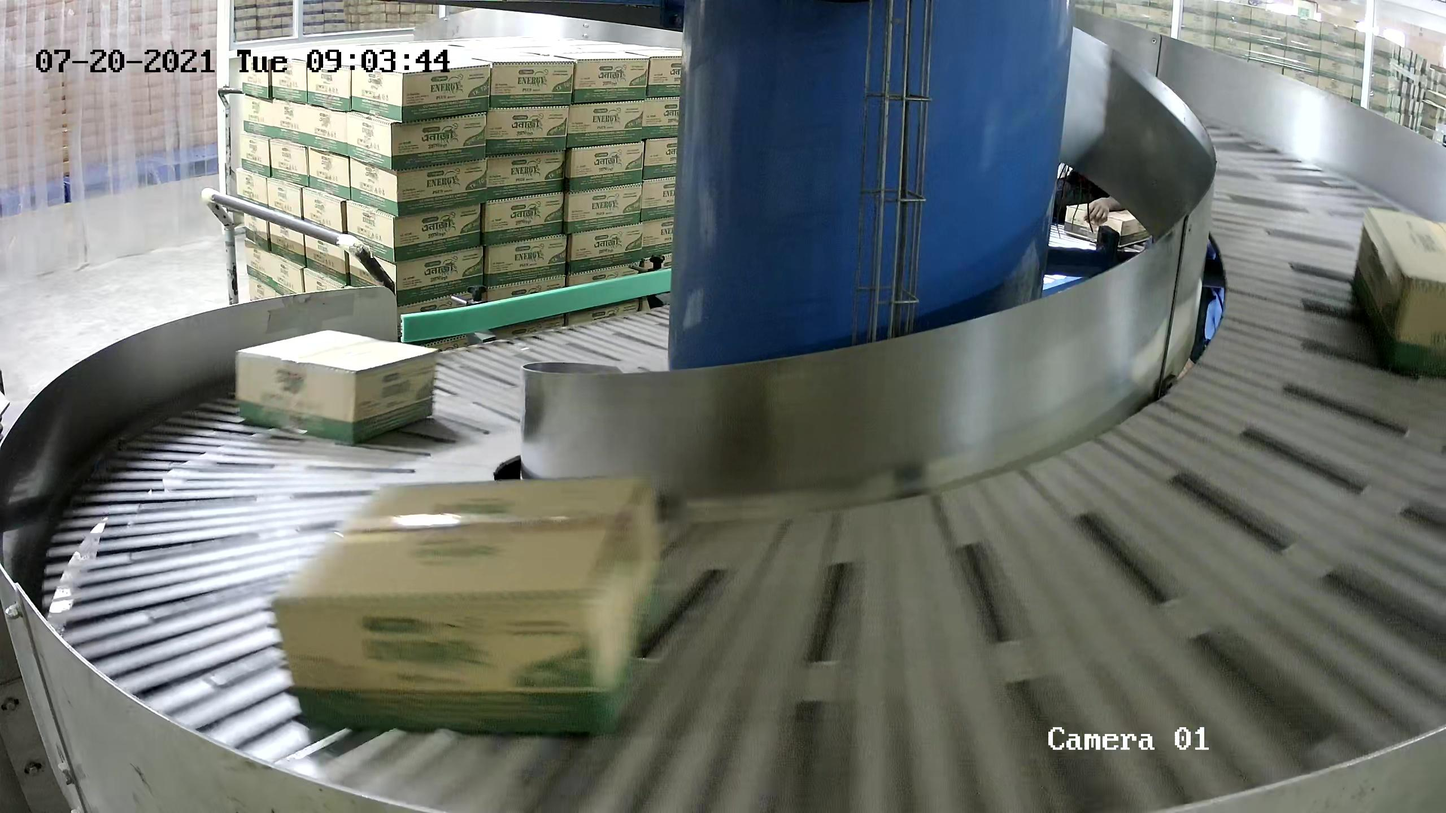Box: (267, 472, 664, 738), (234, 329, 438, 446), (1350, 205, 1446, 377)
